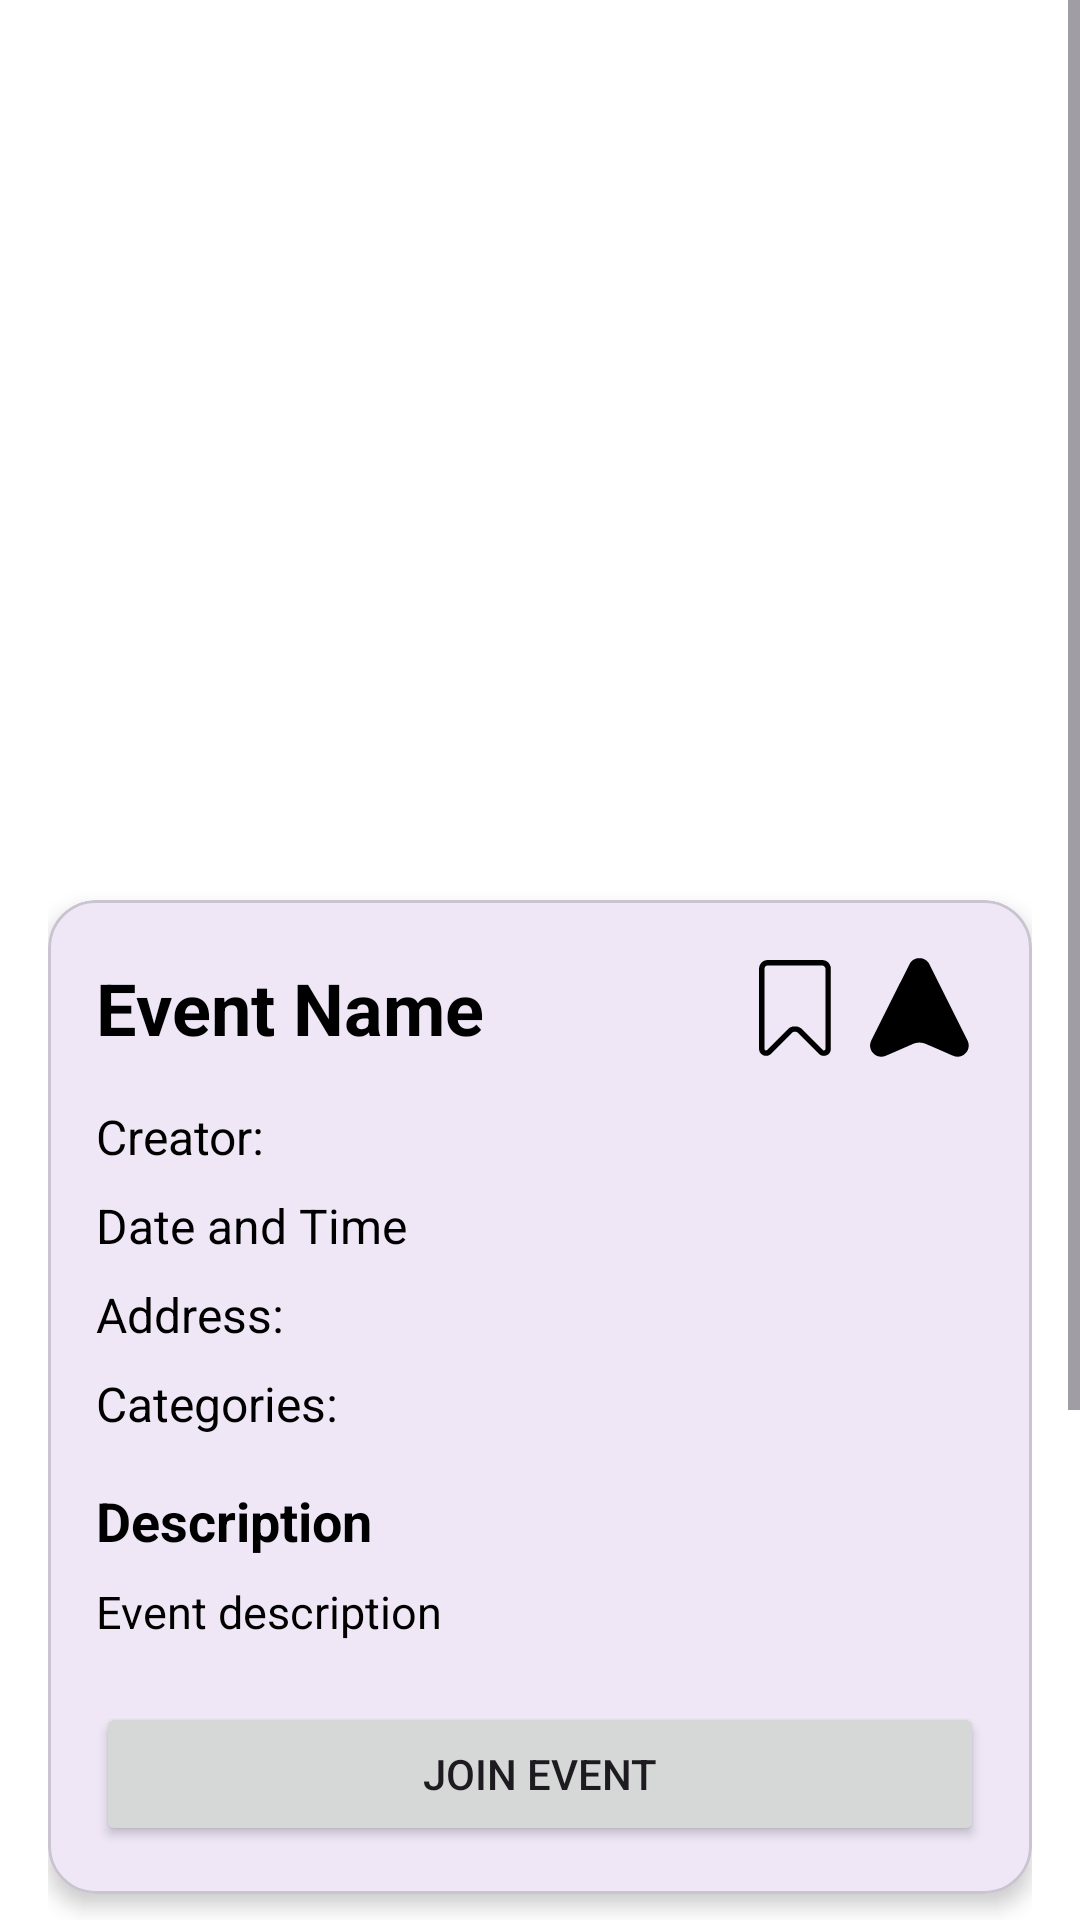

Icons on this 1080 x 1920 Android screen, each with the point to tap as (x=x, y=y):
Navigation event: (x=919, y=1007)
Save event: (x=795, y=1008)
